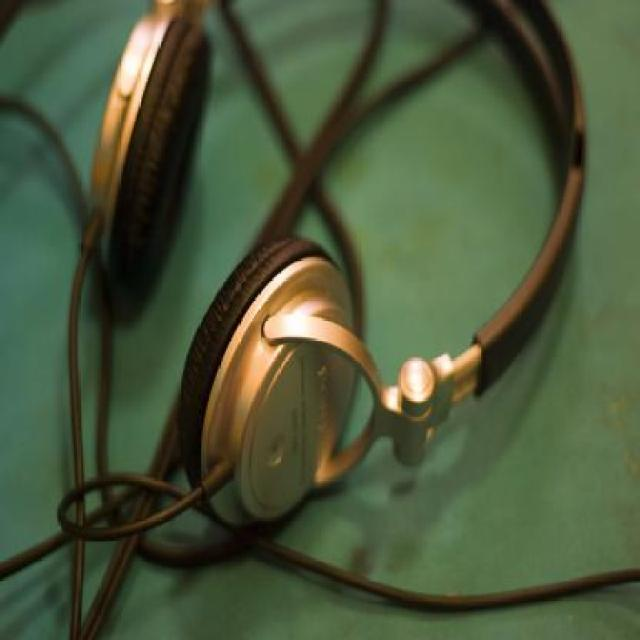earphone: (95, 2, 493, 538)
